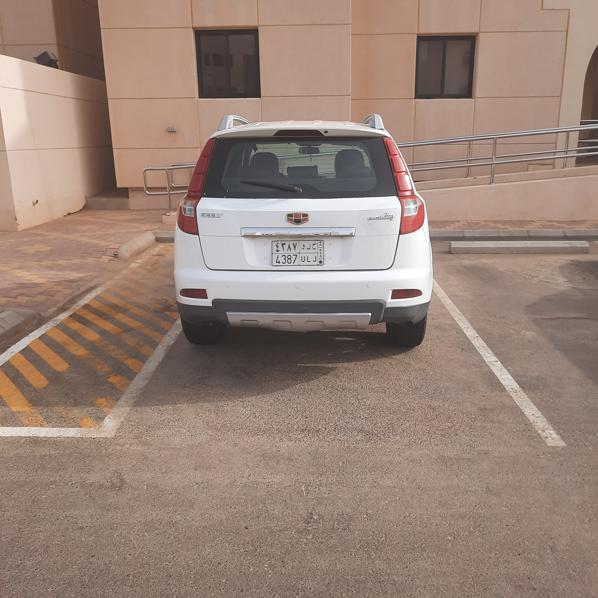numberplate: (272, 241, 325, 266)
